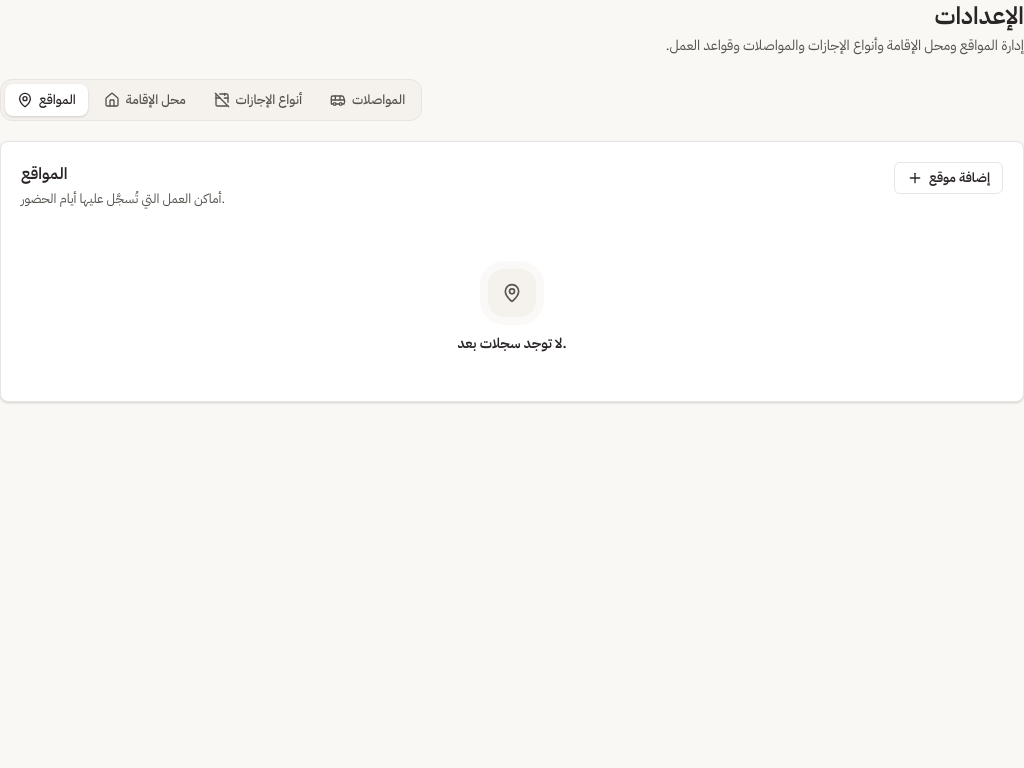
Scenario: a double click on Save submits once
The image size is (1024, 768).
Click the button "إضافة موقع".
click(948, 178)  # box 894,162 -> 1003,194
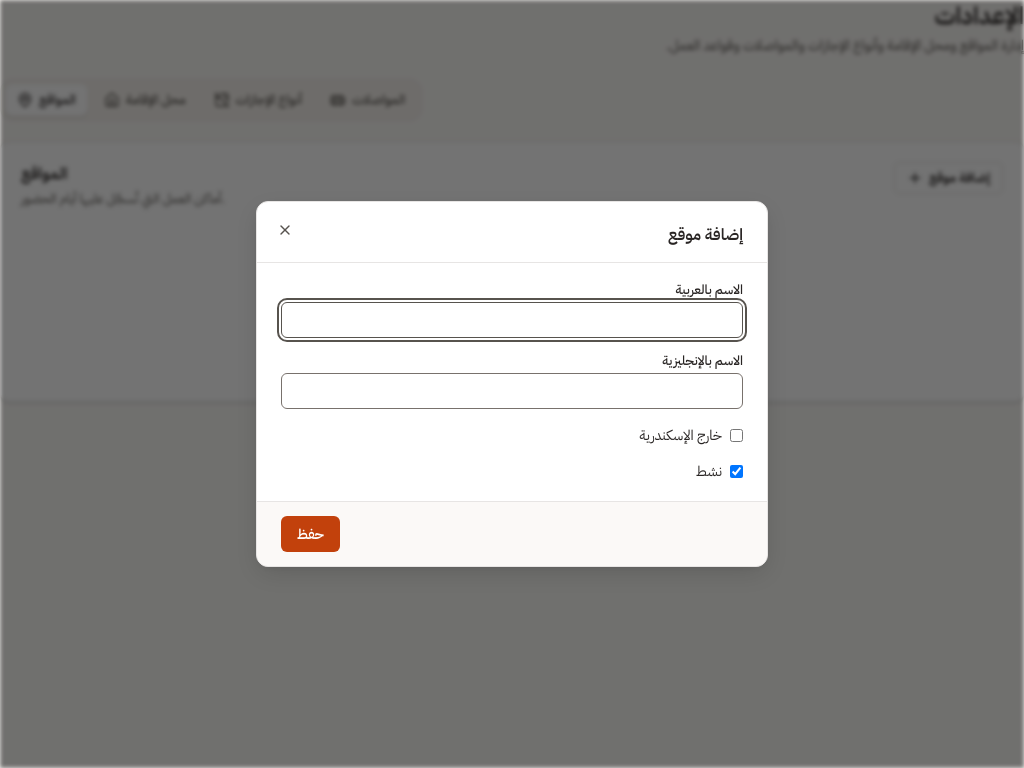
Type "س" into the field labelled "الاسم بالعربية".
click(512, 320); type("س")  # box 281,302 -> 743,338
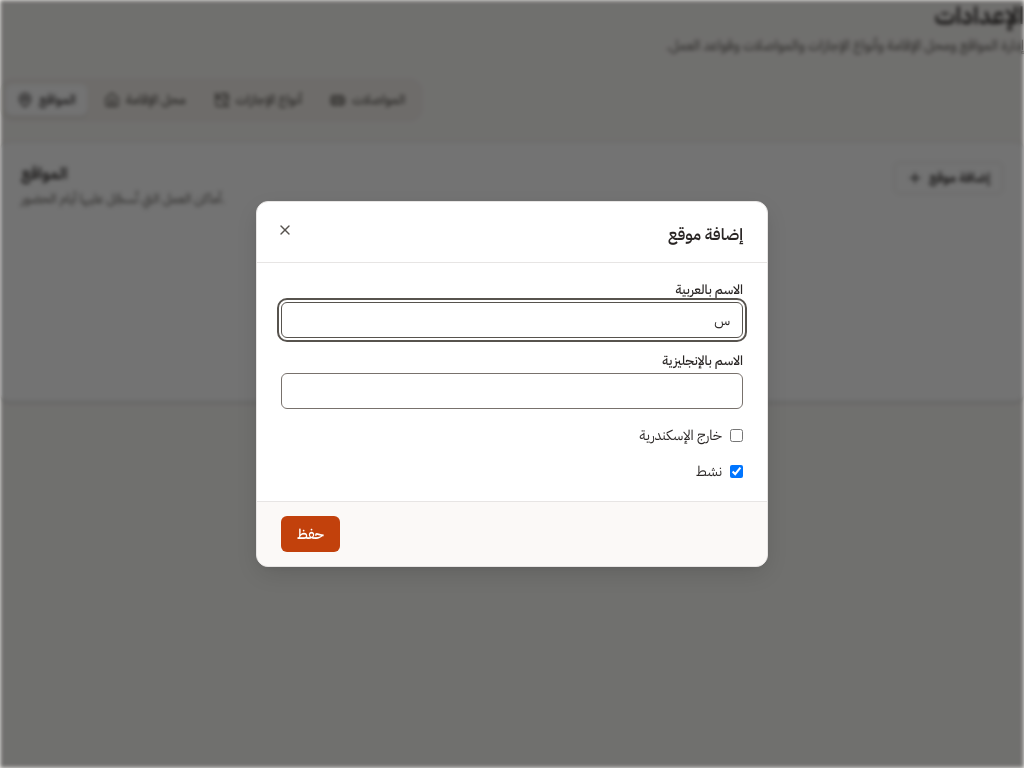
Double-click the button "حفظ".
double_click(310, 534)  # box 281,516 -> 340,552
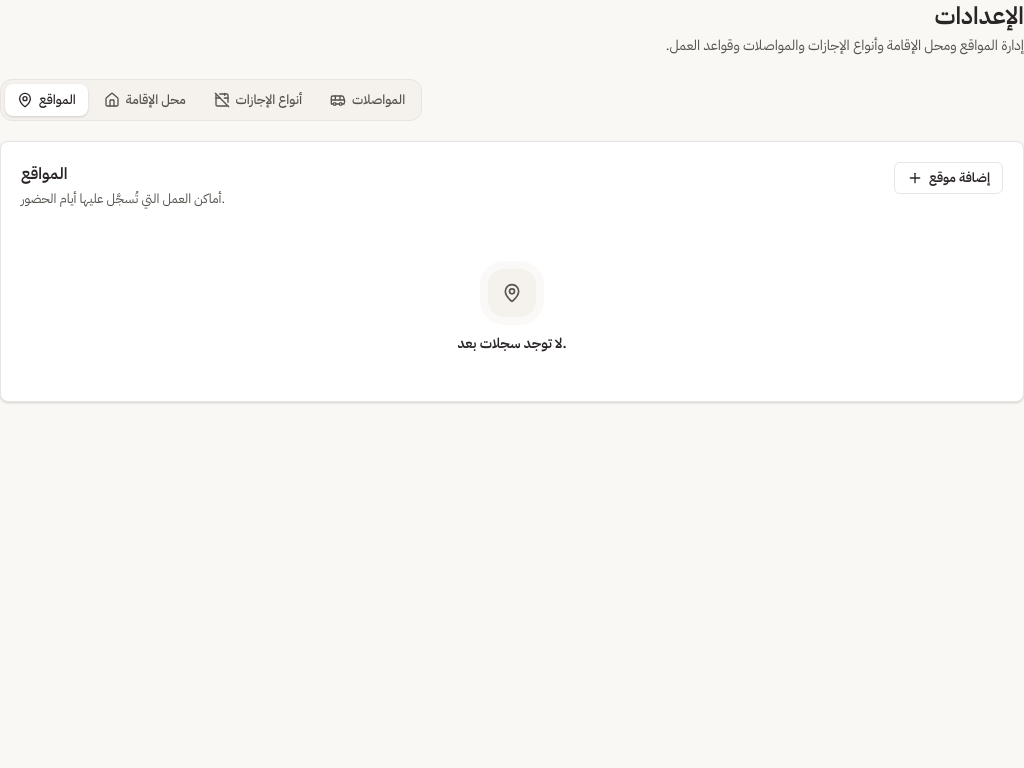
Now the dialog is gone
